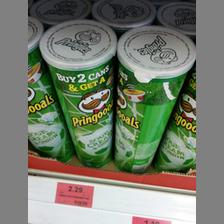Chips: (114, 19, 194, 172), (37, 18, 115, 166)
